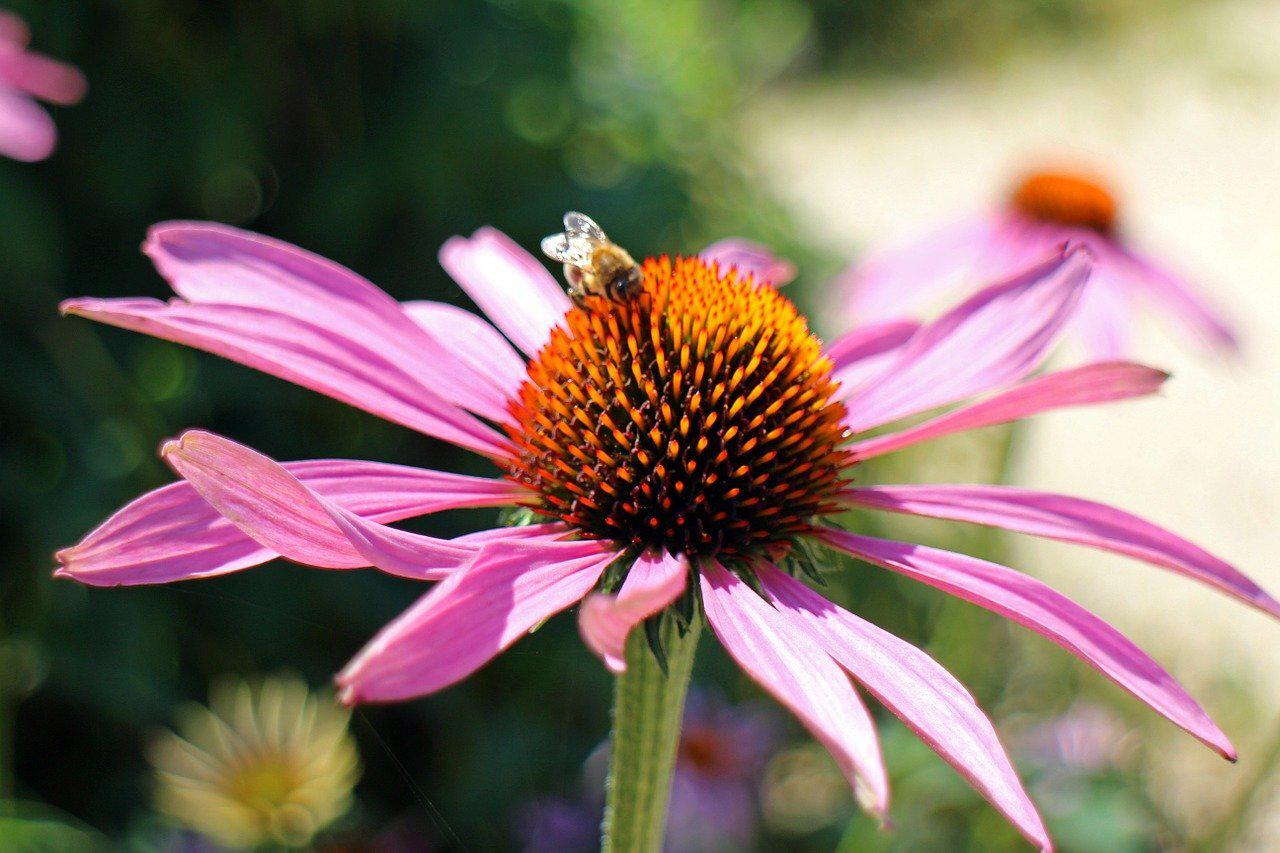bee: (566, 242, 647, 299)
